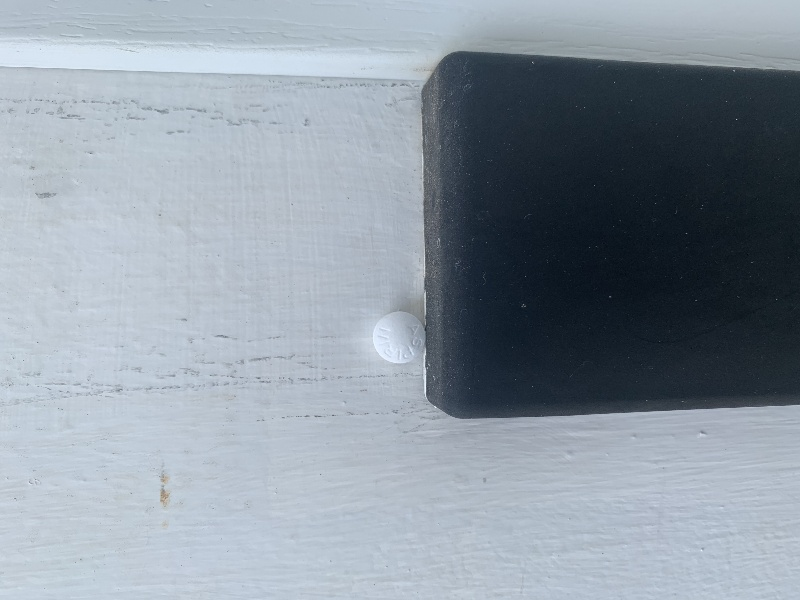Aspirin: (368, 308, 433, 367)
